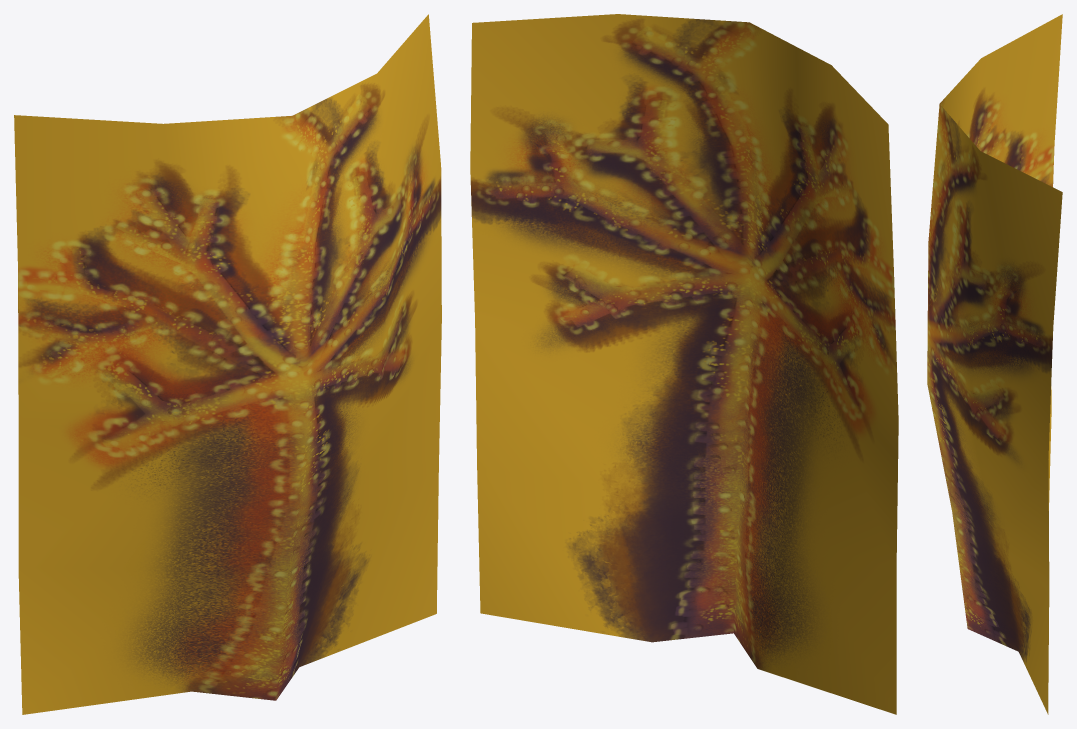
The model's file is ACROPORA RED2.fbx.
3 views of the same model, side by side, from view 1: azimuth 30°, elevation 25°; view 2: azimuth 150°, elevation 25°; view 3: azimuth 270°, elevation 25° (orthographic). The views are drawn at different scales.
Parts seen in each view (by area): view 1: Plane.006; view 2: Plane.006; view 3: Plane.006.
Boxes of the visible parts, x1,y1,x2,y2 form: Plane.006: [14, 14, 441, 714]; Plane.006: [470, 14, 898, 714]; Plane.006: [927, 14, 1062, 714].
Bounding box in the file's own units: 205 × 275 × 64.34.
